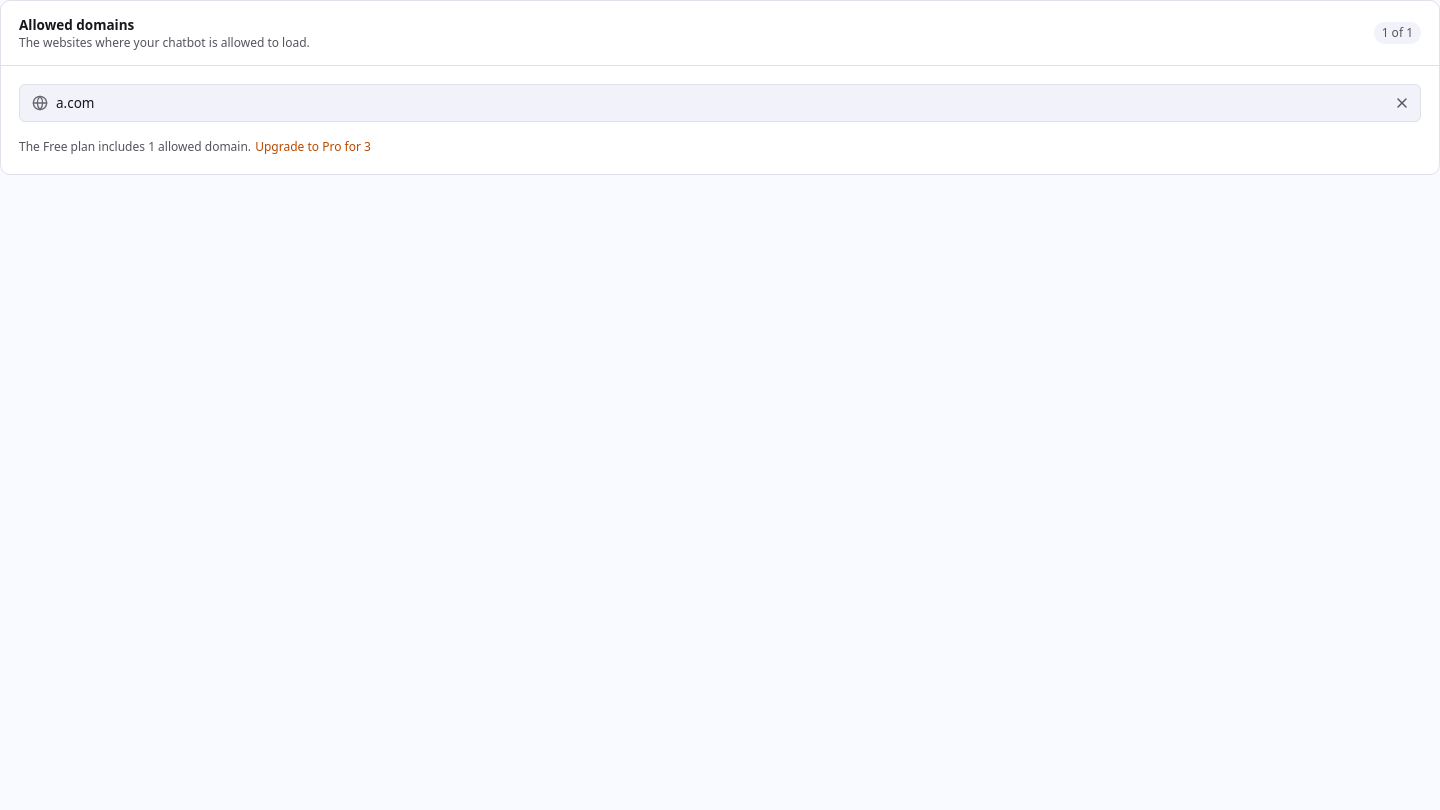
Test case: asks before removing a domain and keeps the dialog open with the error if removal fails
Click the button named "Remove a.com": (1402, 103) [1386,87,1418,119]
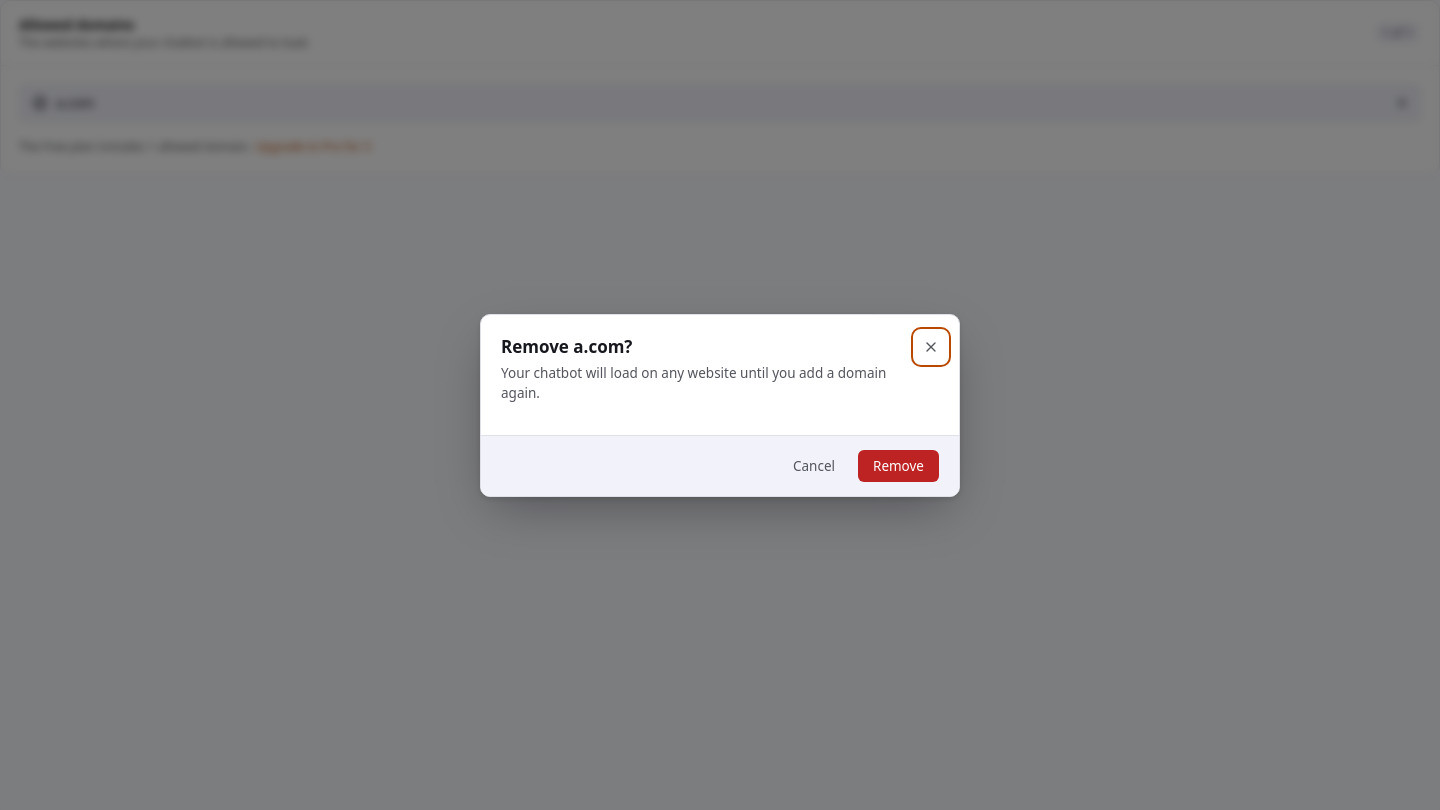
Now the dialog shows "any website", box [501,364,886,402]
Click the button "Remove": (898, 466) [858,450,939,482]
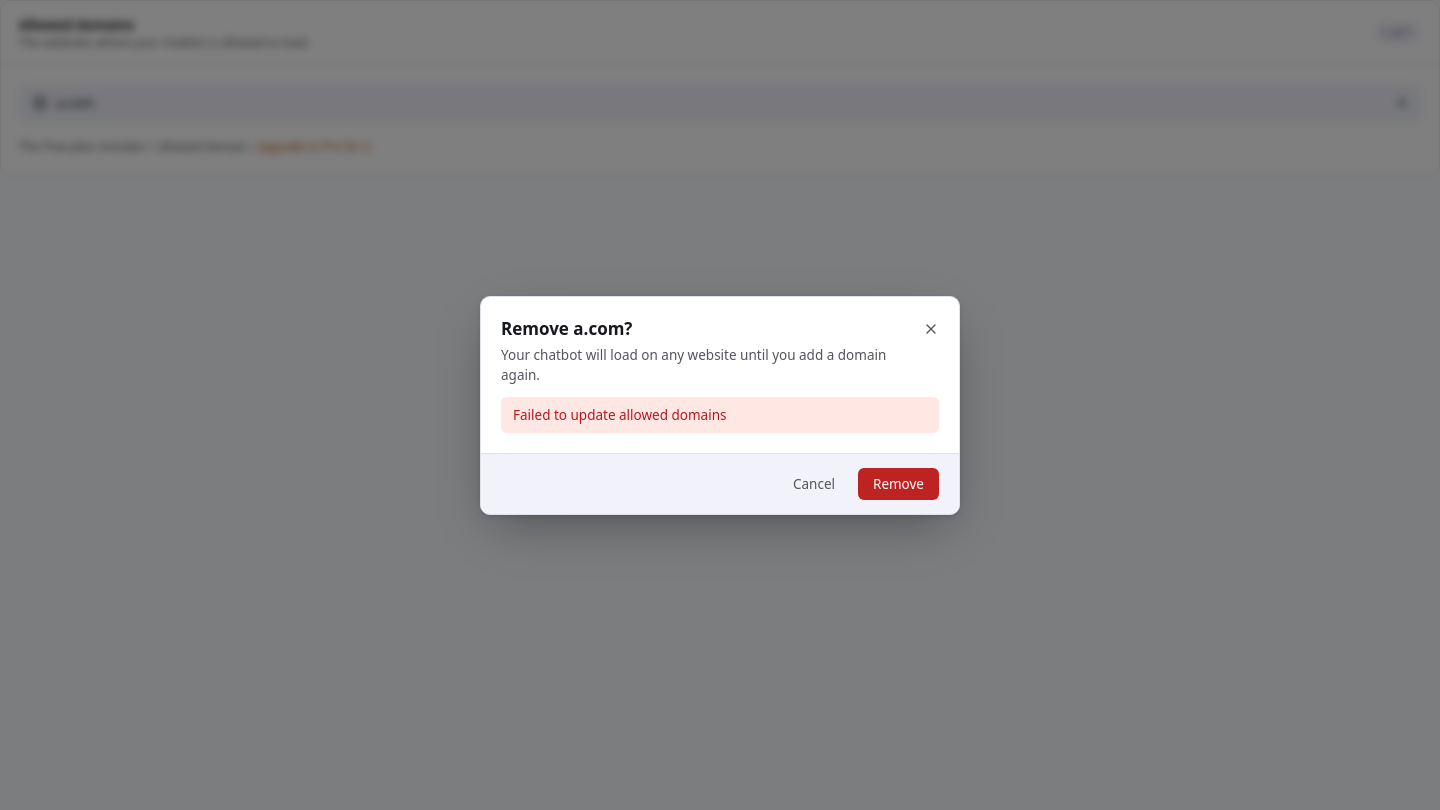
Now the text "Failed to update allowed domains" is shown, box [501,396,939,432]
